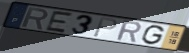3: (70, 14, 97, 37)
E: (44, 10, 76, 35)
G: (140, 24, 166, 46)
P: (91, 17, 119, 38)
R: (20, 6, 50, 31), (115, 20, 142, 44)
